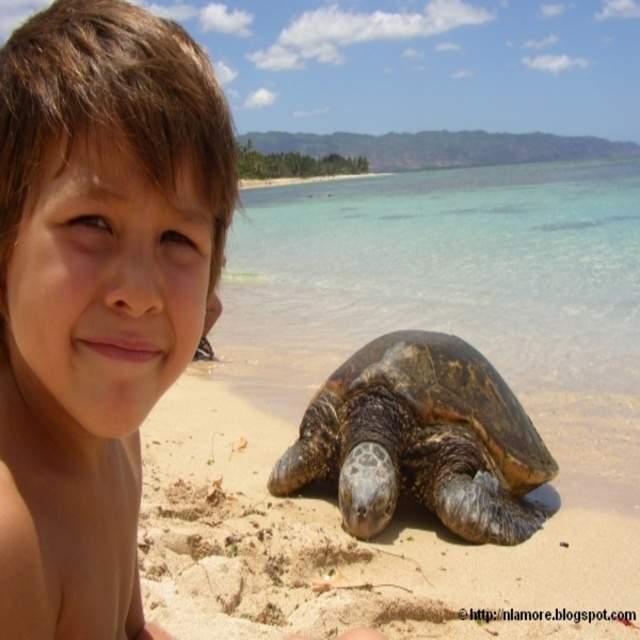Sea turtle: (266, 326, 560, 542)
